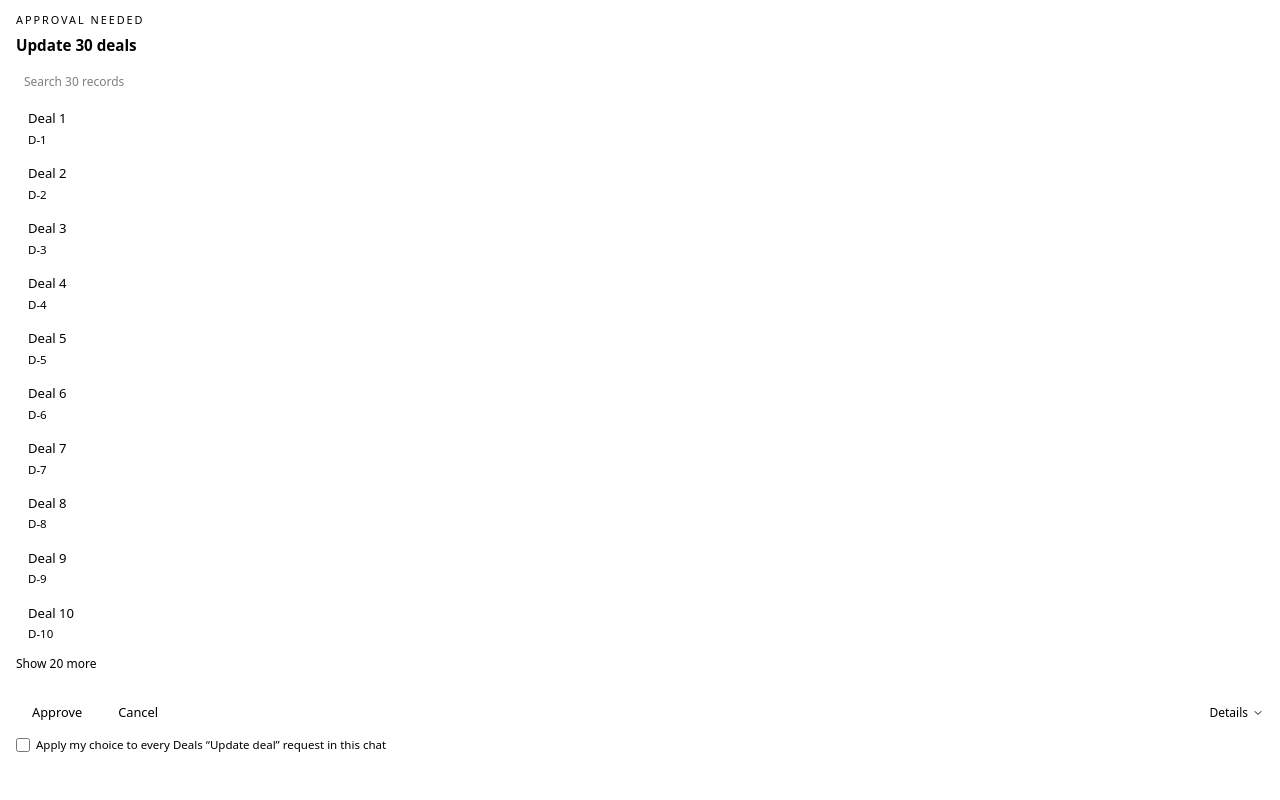
Test case: the readable approval card › adds a search box above 25 records
Type "D-27" into the search field with test id "approval-card-search" at (640,82), box left=16, top=69, right=1264, bottom=95
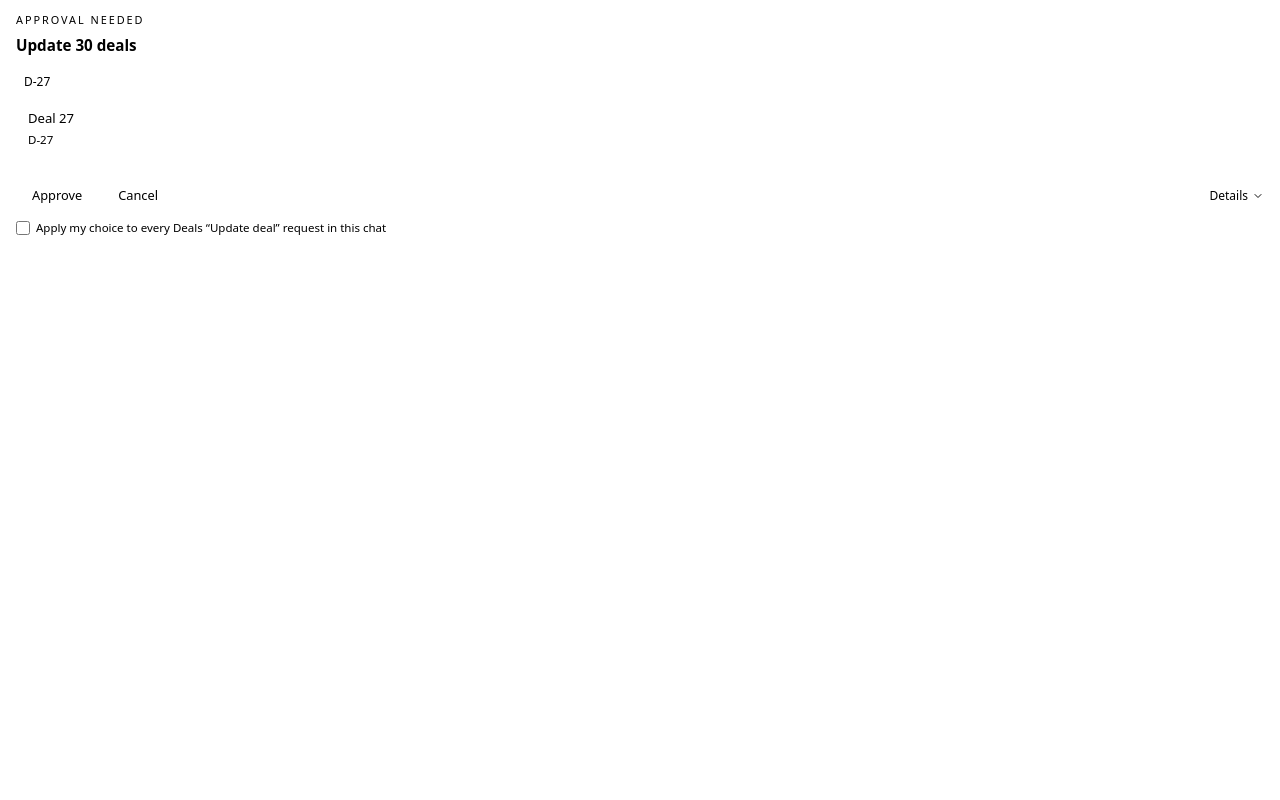
Check: the number of list items with test id "approval-card-item" is 1, box left=28, top=109, right=74, bottom=147
Check: the list item with test id "approval-card-item" shows "Deal 27", box left=28, top=109, right=74, bottom=127
Replace the text in the search field with test id "approval-card-search" with "nothing like this" at (640,82), box left=16, top=69, right=1264, bottom=95
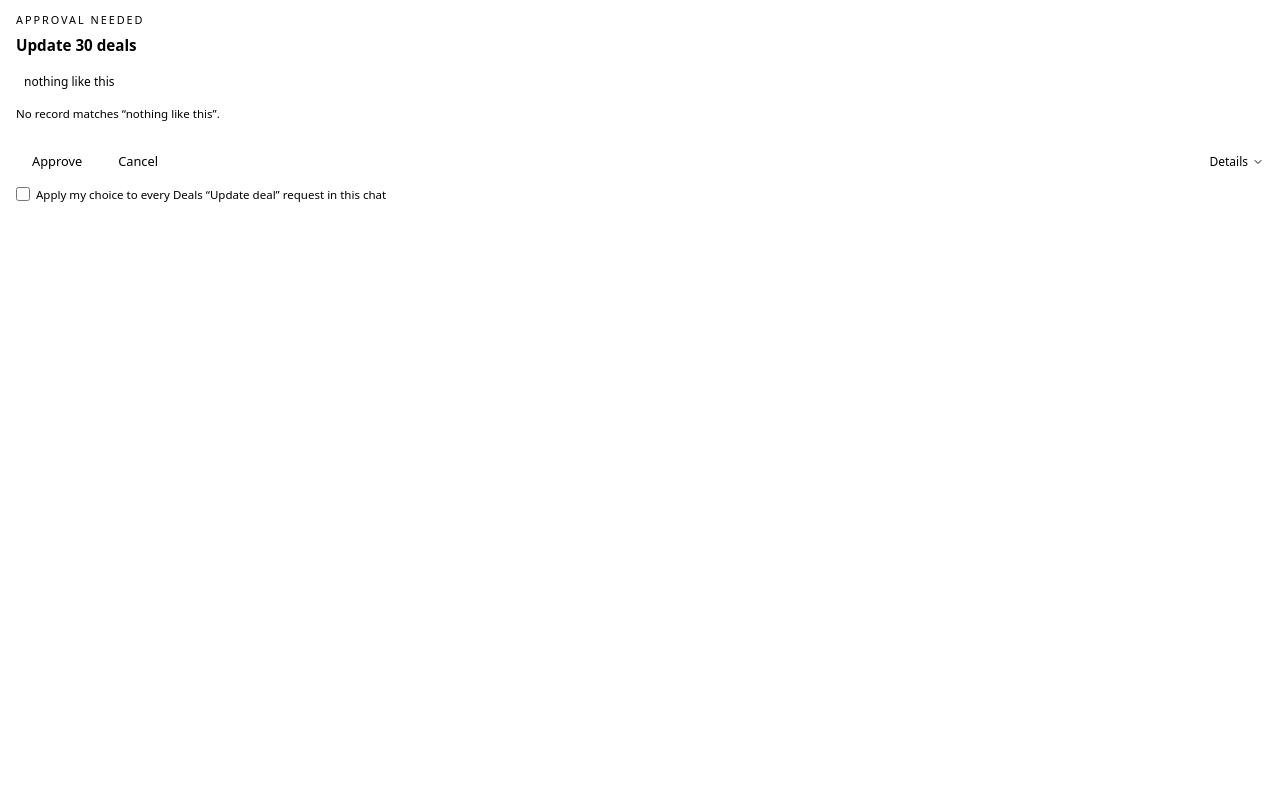
Check: no list items with test id "approval-card-item" are shown
Check: the text "No record matches “nothing like this”." is shown, box left=16, top=106, right=220, bottom=121
